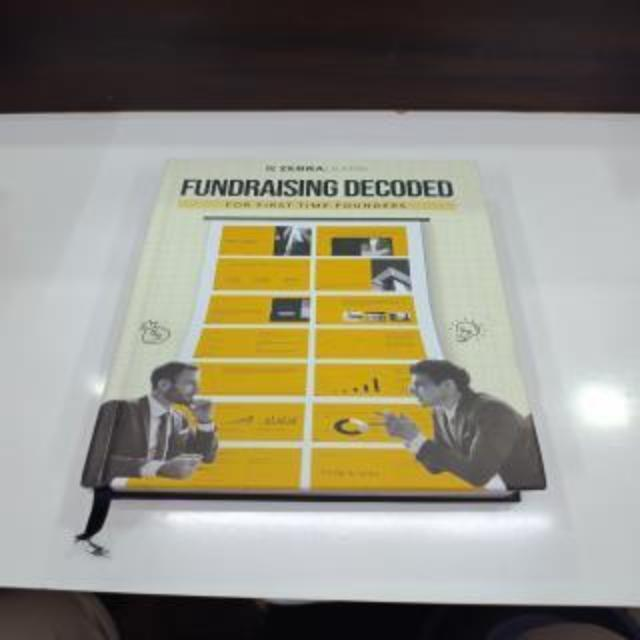book: (72, 136, 568, 548)
